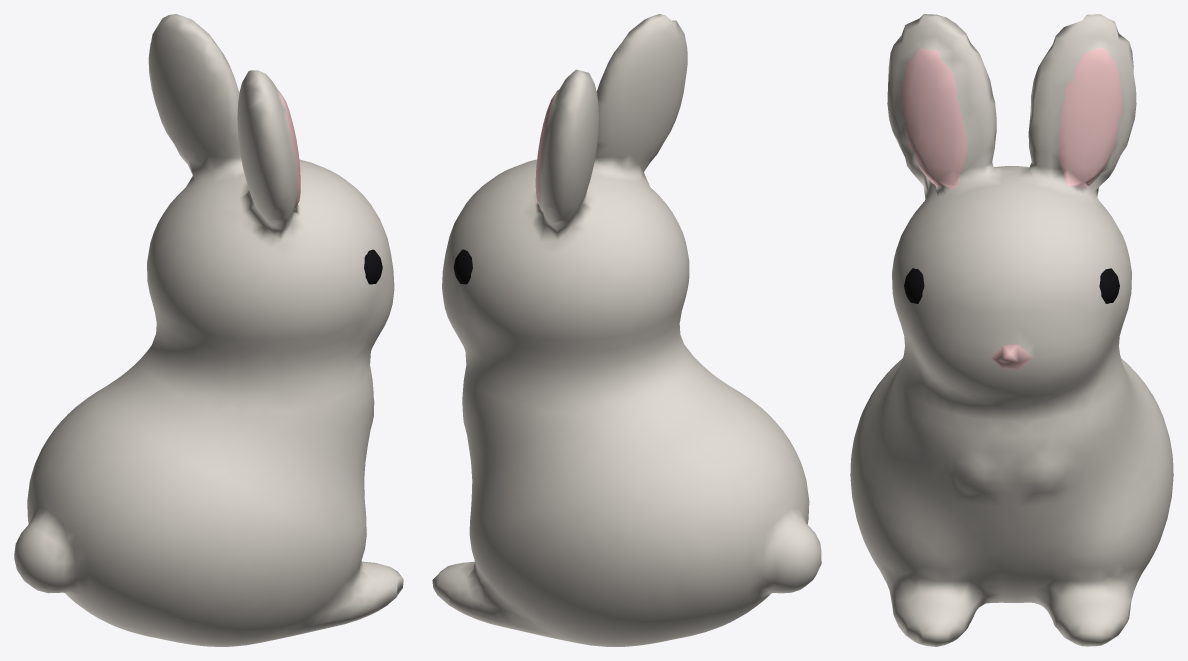
The model's file is rabbit_baby.glb.
The picture shows the model from 3 angles, left to right: view 1: azimuth 30°, elevation 25°; view 2: azimuth 150°, elevation 25°; view 3: azimuth 270°, elevation 25°; orthographic projection. The views are drawn at different scales.
Parts seen in each view (by area): view 1: body; view 2: body; view 3: body, eye.
Boxes of the visible parts, <box> form: body: <box>14,14,403,646</box>; body: <box>432,14,821,646</box>; body: <box>850,14,1173,646</box>; eye: <box>904,268,1119,303</box>.
Size of the model in its own units: 1.43 by 2.12 by 1.07.
